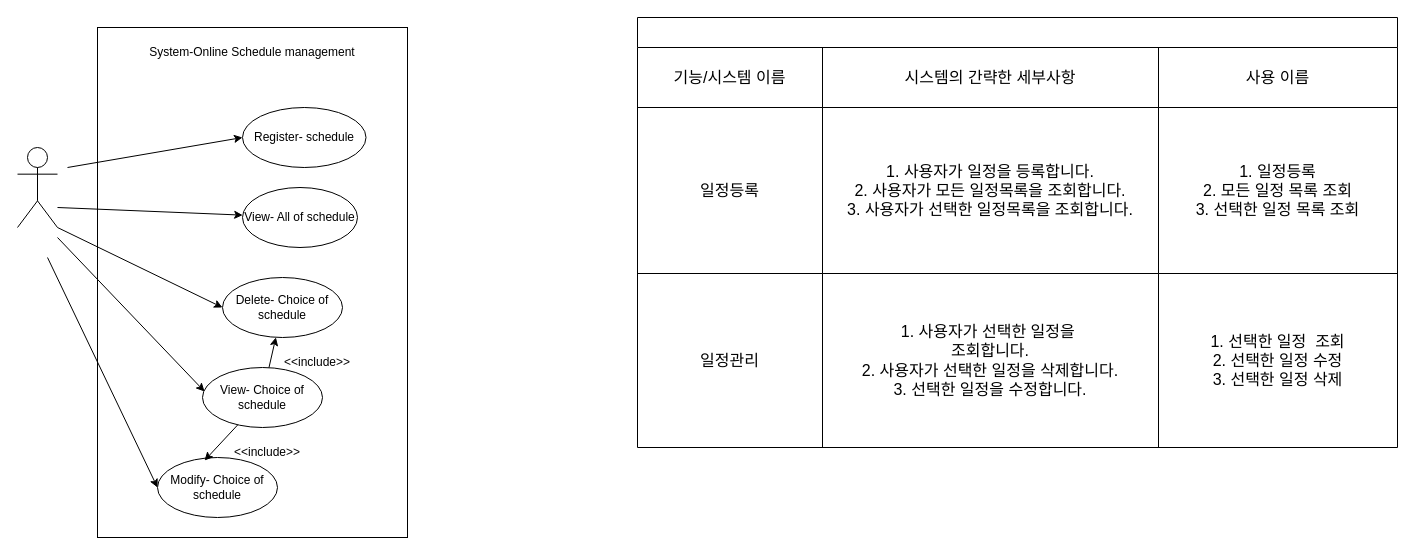
Image size: 1415x555. Some labels were removed from this diagram. Each missing label, with the box of its shape:
User: (16, 146, 58, 228)
시스템 (기능)목록: (636, 16, 1398, 448)
